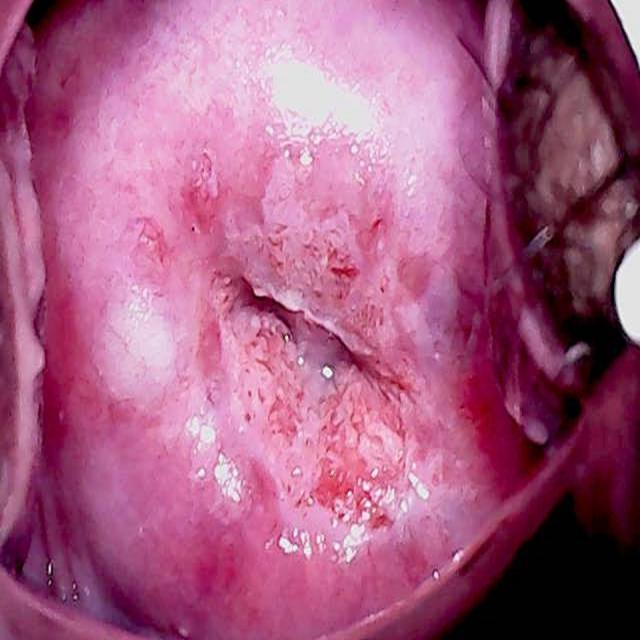cervical_lesion: (44, 21, 513, 613)
